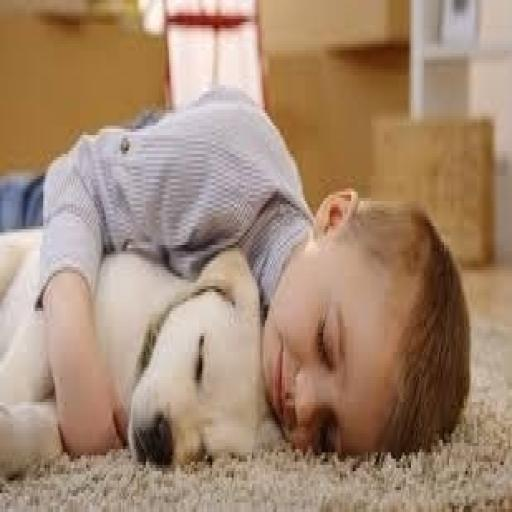sleeping: (2, 78, 472, 478)
